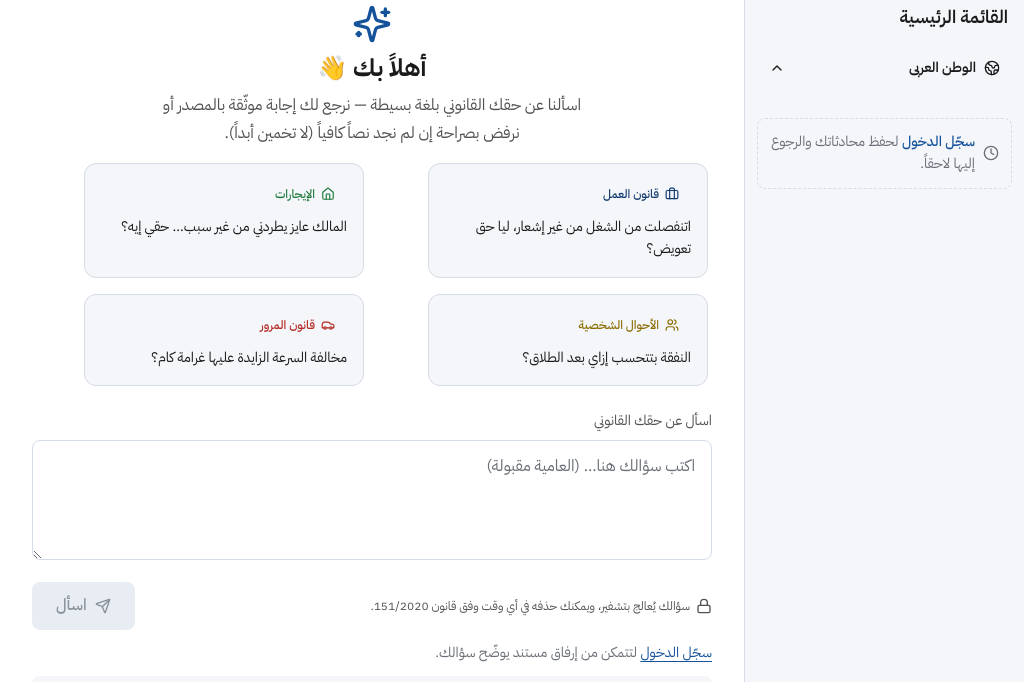
Scenario: ChatScreen › يعرض فقاعة السؤال ثم الإجابة الموثّقة عند نجاح الطلب
This screenshot has width=1024, height=682.
In the text box labelled "اسأل عن حقك القانوني": coordinates (372, 500) 32,440 -> 712,560, type "اتنفصلت من الشغل من غير إشعار، ليا حق تعويض؟"
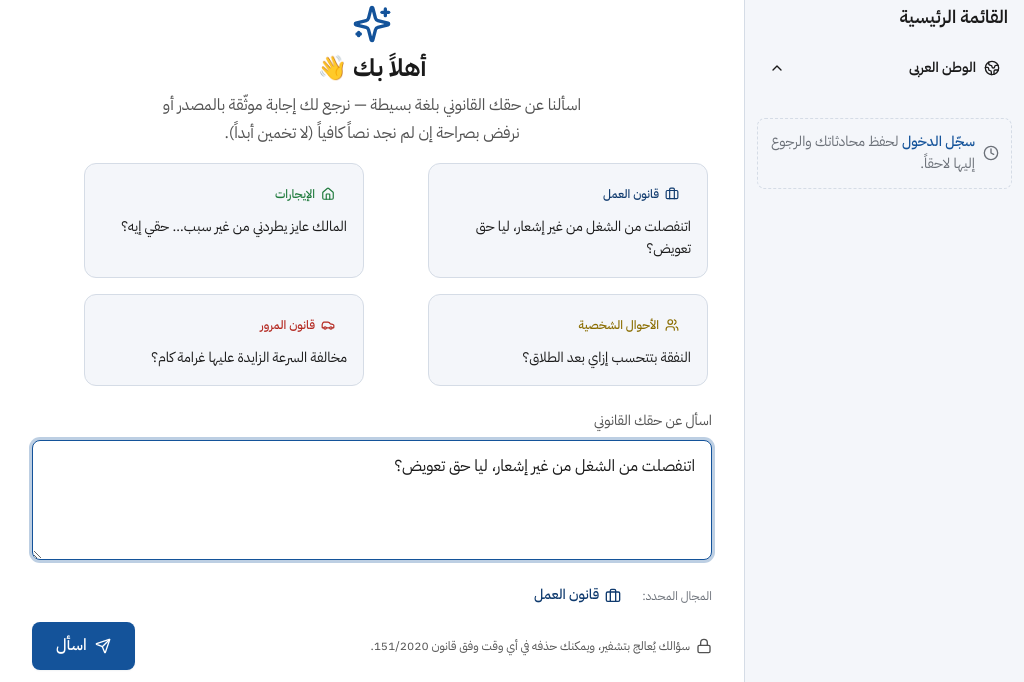
Click the button with aria-label "إرسال السؤال": coordinates (83, 646) 32,622 -> 135,670
(page scrolled)
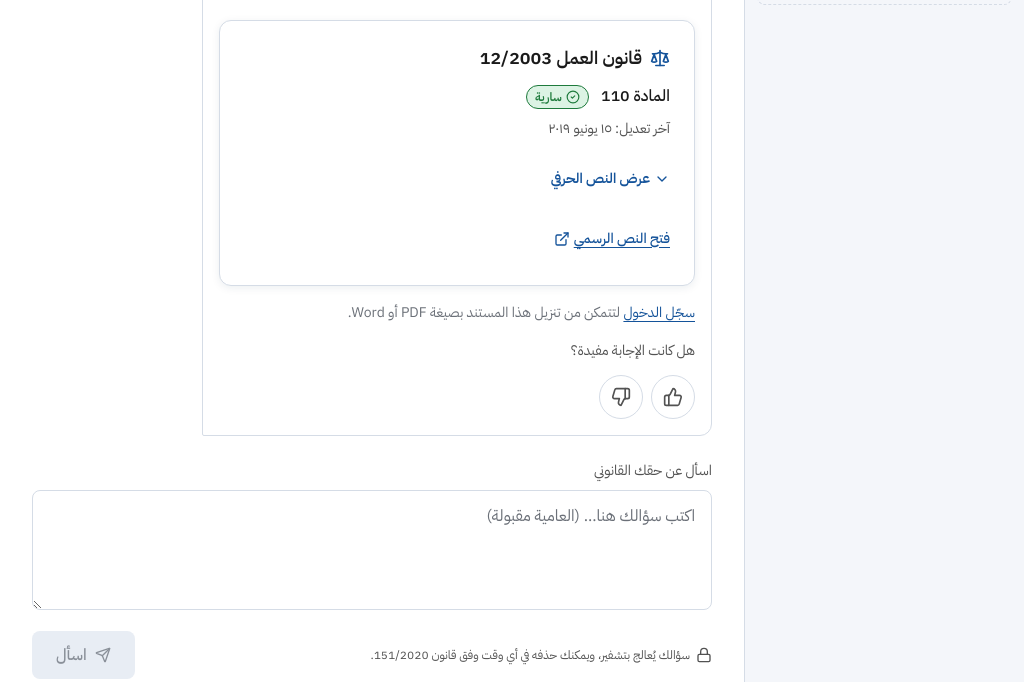
Check: the text "المادة 110" is shown, box 601,83 -> 670,110
